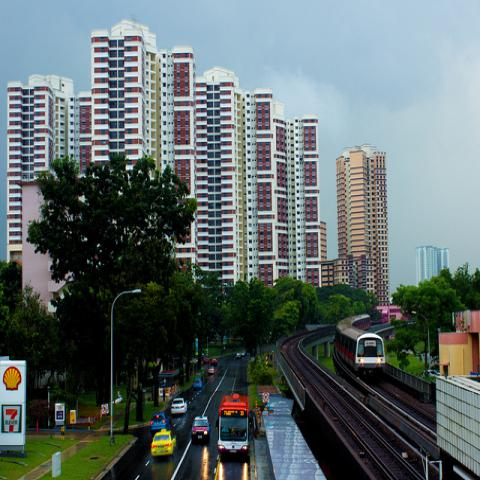bus: (217, 394, 249, 454)
car: (151, 428, 177, 456), (191, 415, 211, 443), (150, 412, 171, 436), (171, 398, 188, 415), (422, 369, 438, 380), (193, 378, 204, 390), (207, 365, 215, 374), (210, 358, 218, 366), (236, 352, 242, 359), (204, 358, 210, 364), (241, 350, 246, 356)
